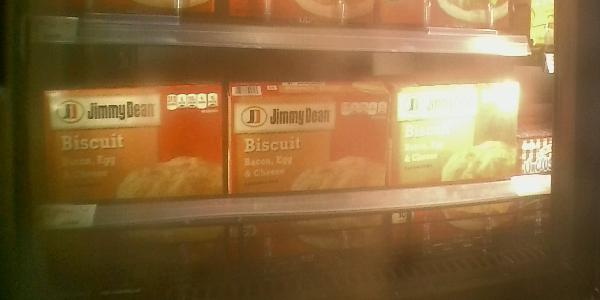icecream: (38, 68, 228, 198), (230, 80, 390, 190), (394, 75, 521, 190)
